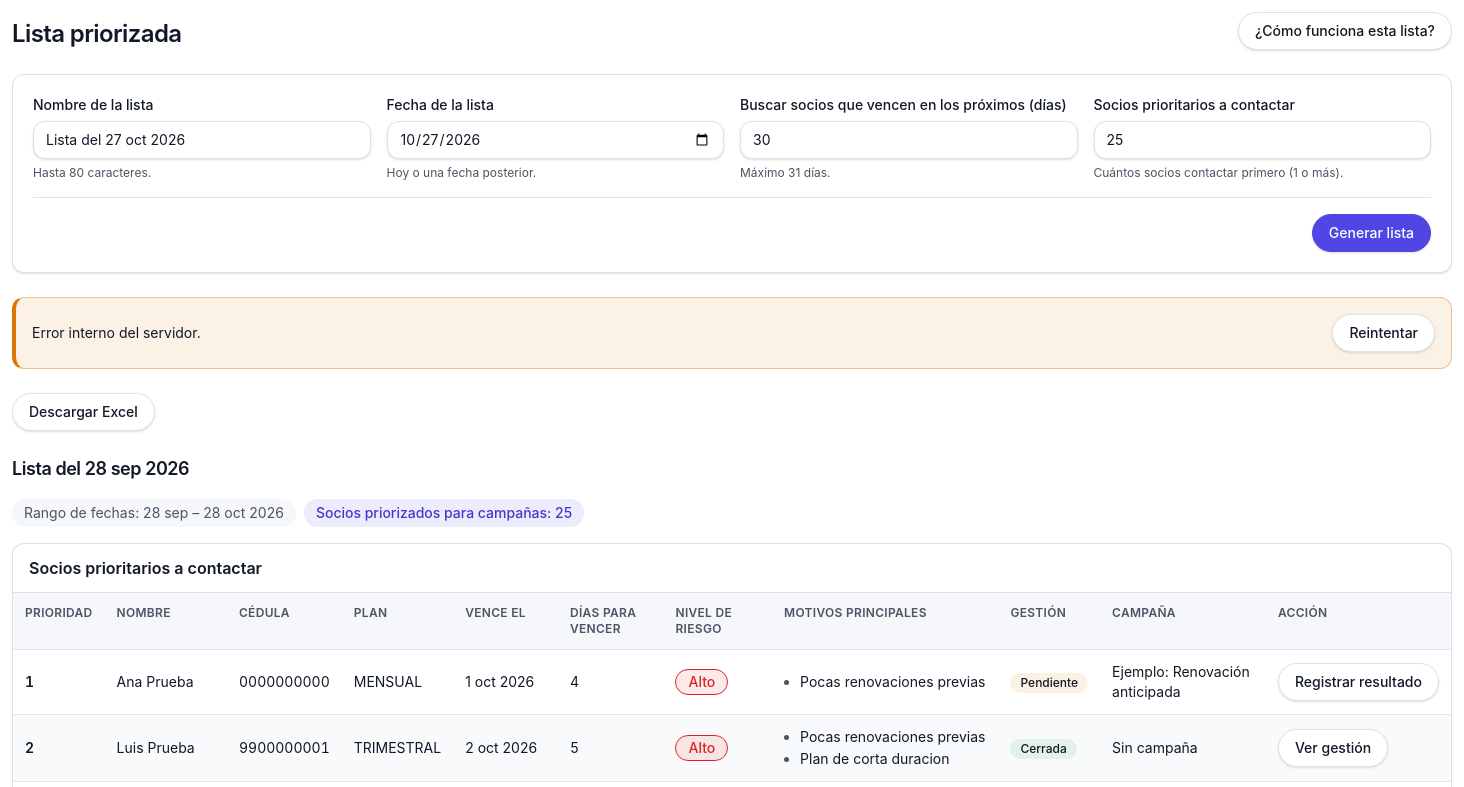
it: HistorialListas › historial con error → ErrorAlert con Reintentar que vuelve a pedir
Check: the message shows "Error interno del servidor.", box [32,324,201,341]
What coordinates should you click on to do the following:
click the button "Reintentar"
I would click on:
 (1384, 333)
Its box is [1332,314,1435,352].
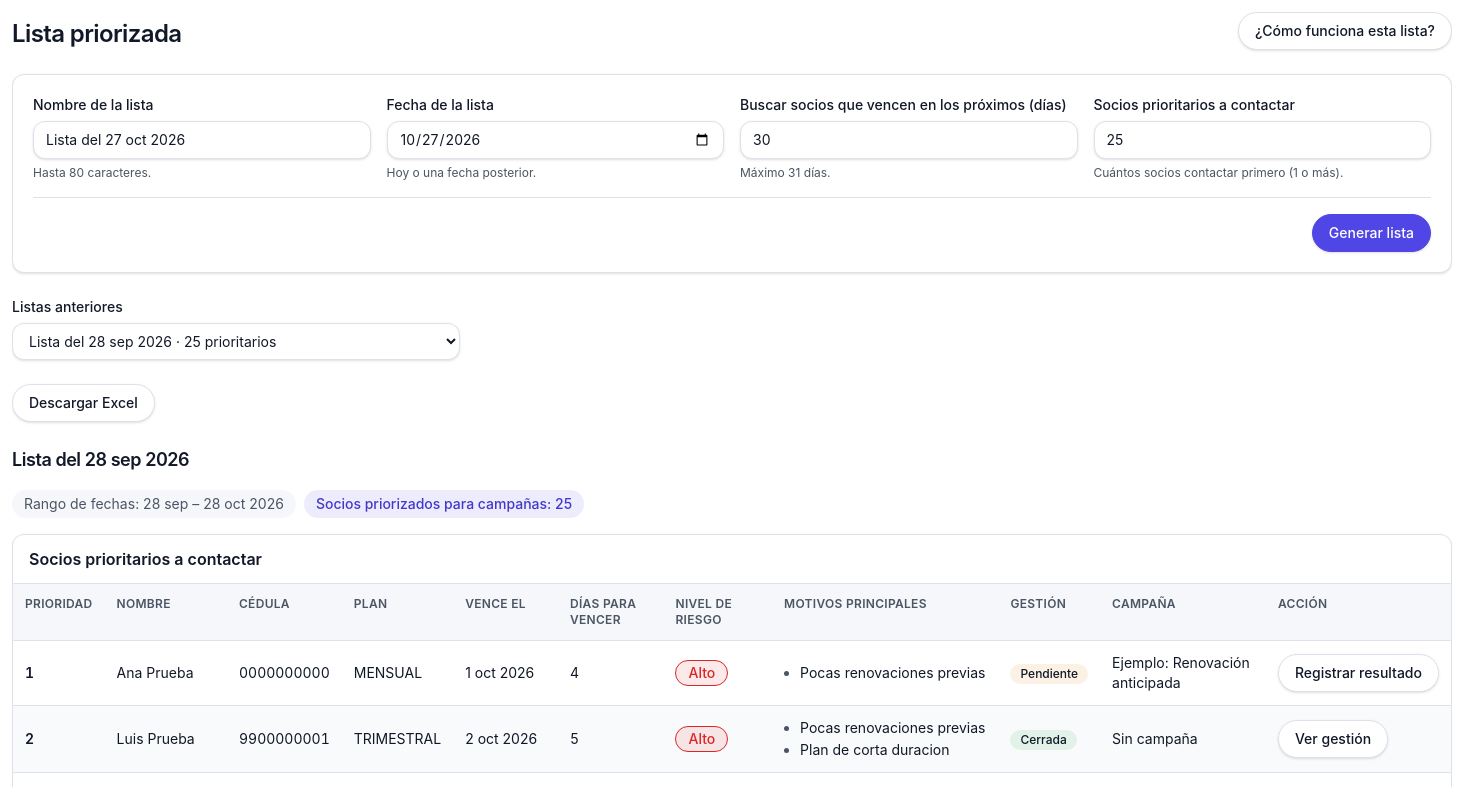
Check: the message "Error interno del servidor. Reintentar" is gone
